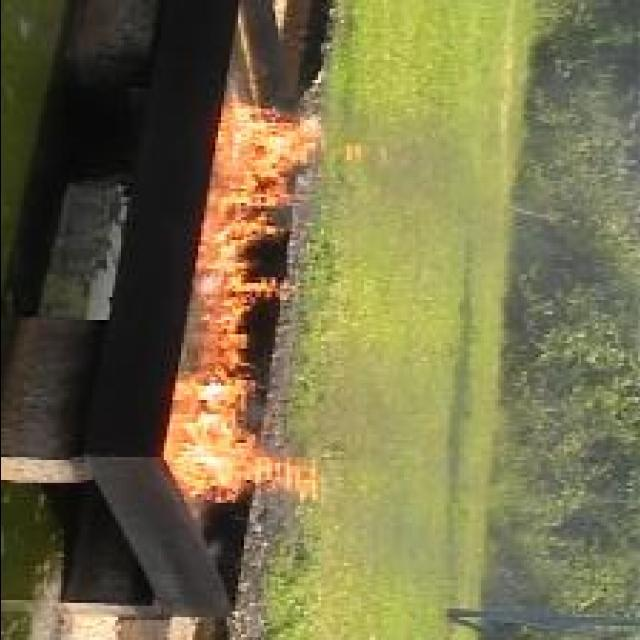Fire: (177, 98, 329, 504)
